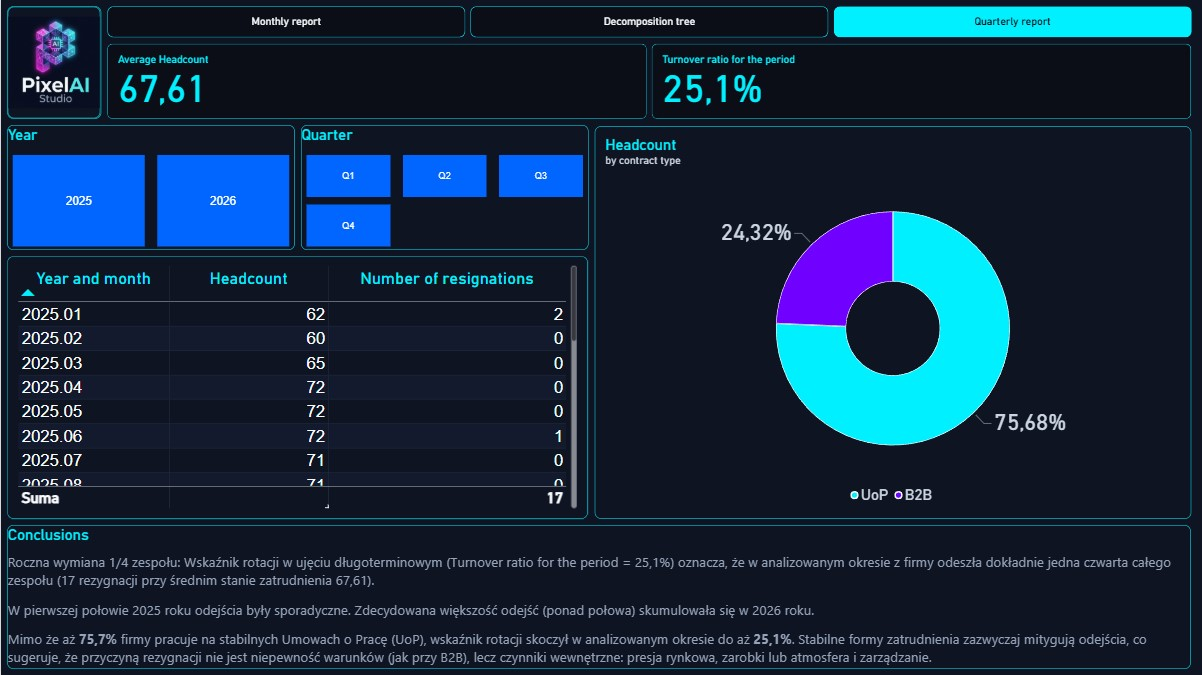

Layout of this report page (visuals, bound fields, positions):
{"tool":"powerbi","page":{"name":"Quarterly report","canvas":[1920,1080],"ordinal":2},"visuals":[{"type":"image","box":[10.5,10.5,150,180],"z":0},{"type":"pageNavigator","box":[170,10.5,1735,50],"z":1000},{"type":"textbox","title":"Conclusions","box":[10.5,839,1894,230],"z":2000},{"type":"cardVisual","fields":{"Data":["Miary.Average Headcount","Miary.Turnover ratio for the period"]},"box":[169.9,70,1735,120],"z":3000},{"type":"tableEx","fields":{"Values":["dimKalendarz.Rok.Miesiąc","select","Miary.Headcount","Miary.Number of resignations"]},"box":[10.5,409.6,928.5,420.1],"z":4000},{"type":"advancedSlicerVisual","title":"Quarter","fields":{"Values":["dimKalendarz.Kwartał"]},"box":[480,200.2,460,200],"z":5000},{"type":"advancedSlicerVisual","title":"Year","fields":{"Values":["dimKalendarz.Rok"]},"box":[10.5,200,460,200],"z":6000},{"type":"donutChart","title":"Headcount","fields":{"Category":["DimPracownicy.Rodzaj umowy"],"Y":["Miary.Headcount"]},"box":[950.1,201.3,954.4,627.6],"z":7000}]}

Visuals, with their boxes in screenshot pixels (x1, y1, x2, y2), scaled from the page's 1920x1080 canvas onto the 1202x675 screenshot:
image: [x1=7, y1=7, x2=100, y2=119]
pageNavigator: [x1=106, y1=7, x2=1193, y2=38]
"Conclusions" textbox: [x1=7, y1=524, x2=1192, y2=668]
cardVisual - Miary.Average Headcount x Miary.Turnover ratio for the period: [x1=106, y1=44, x2=1193, y2=119]
tableEx - dimKalendarz.Rok.Miesiąc x select: [x1=7, y1=256, x2=588, y2=519]
"Quarter" advancedSlicerVisual: [x1=300, y1=125, x2=588, y2=250]
"Year" advancedSlicerVisual: [x1=7, y1=125, x2=295, y2=250]
"Headcount" donutChart: [x1=595, y1=126, x2=1192, y2=518]
